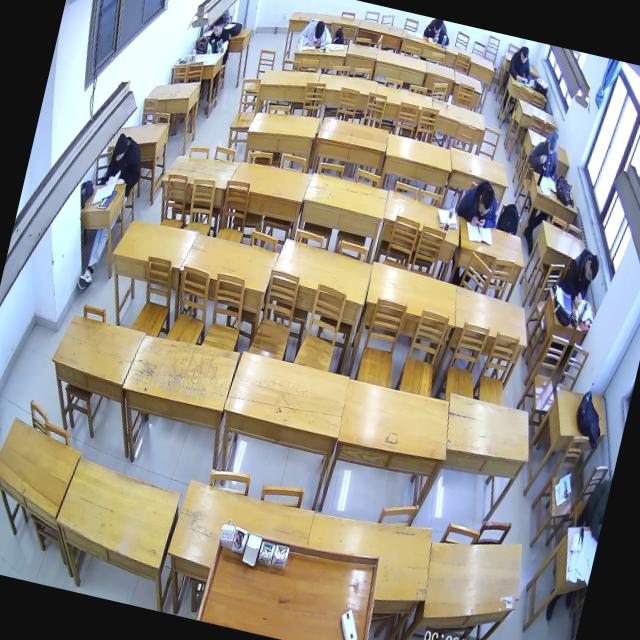bow: (452, 174, 506, 232), (296, 13, 336, 52), (421, 16, 454, 48)
down: (474, 186, 496, 220), (110, 130, 131, 164), (582, 250, 602, 284), (544, 128, 562, 158), (310, 18, 326, 43), (210, 16, 225, 38), (517, 45, 531, 66), (431, 18, 444, 36)
sit: (556, 242, 604, 312), (102, 130, 148, 192), (524, 124, 566, 178), (504, 42, 538, 86), (203, 14, 236, 59)
